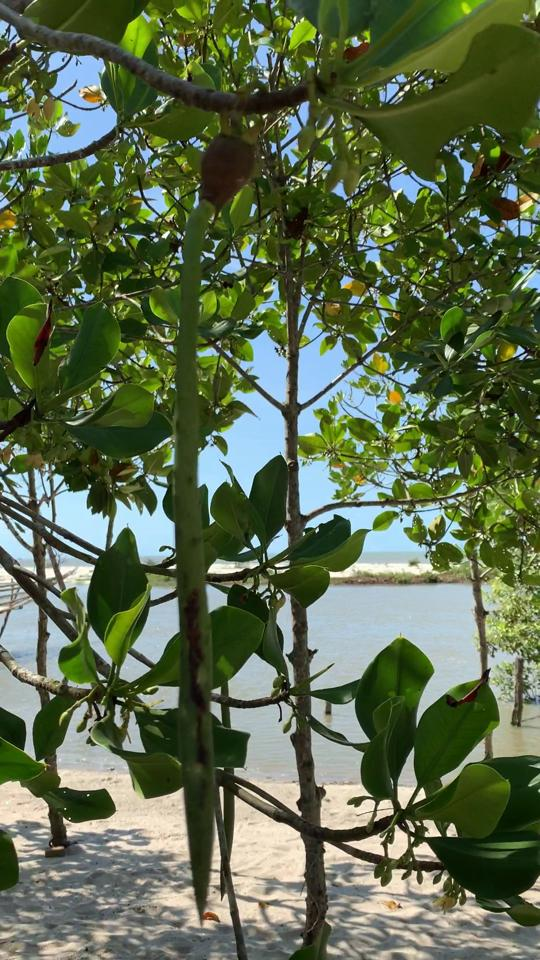setengah matang: (154, 115, 275, 921)
